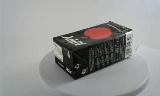appy: (48, 21, 125, 80)
